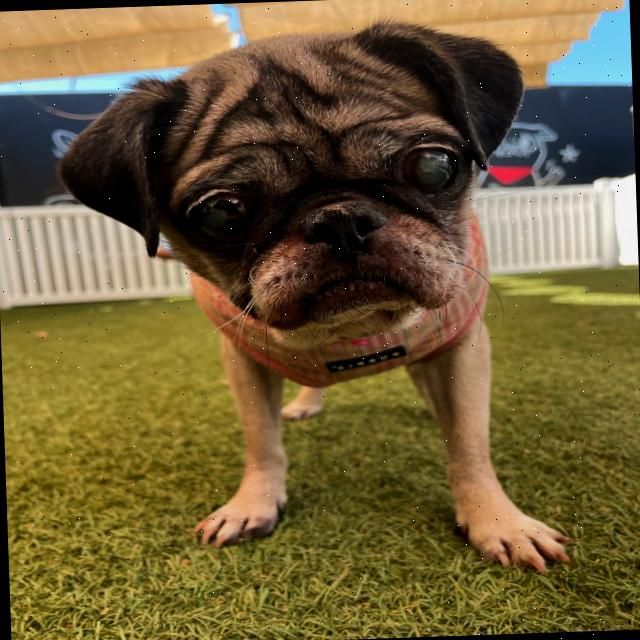pug_dog: (42, 12, 546, 366)
